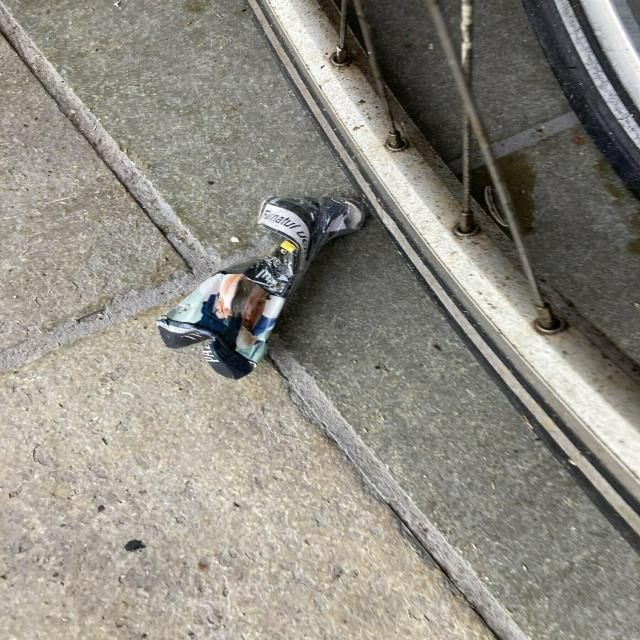Paper: (154, 190, 368, 382)
